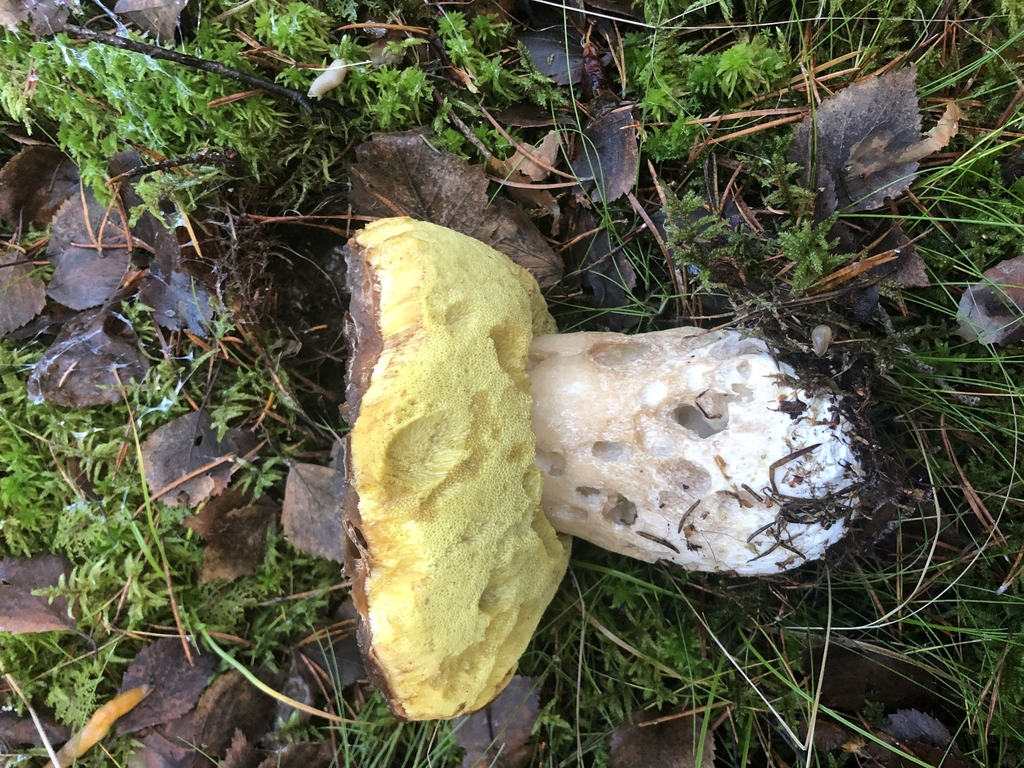Stem: (527, 328, 866, 574)
Underside: (346, 220, 570, 719)
